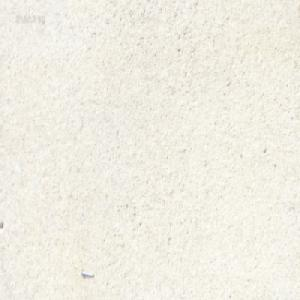Nail: (79, 268, 94, 277)
